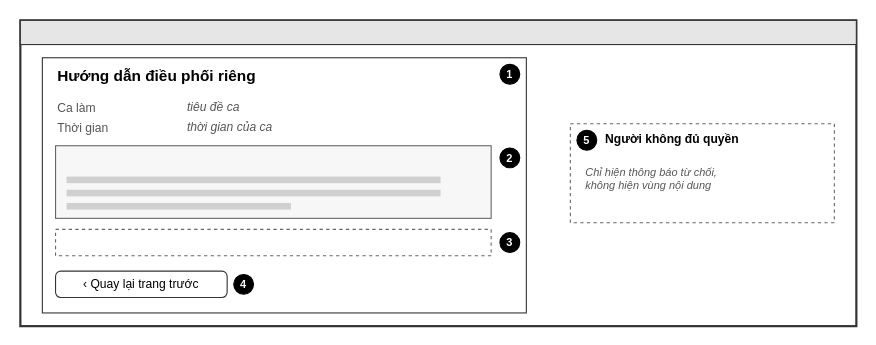
This 876x345 diagram has some shape labels left out. Each missing label, with the box of its shape:
Lời nhắc không chia sẻ nội dung ra ngoài: (54, 228, 491, 256)
Nội dung hướng dẫn riêng của nhu cầu: (54, 145, 491, 218)
Đầu trang và thanh mục (Hình 6.2): (19, 19, 856, 45)
